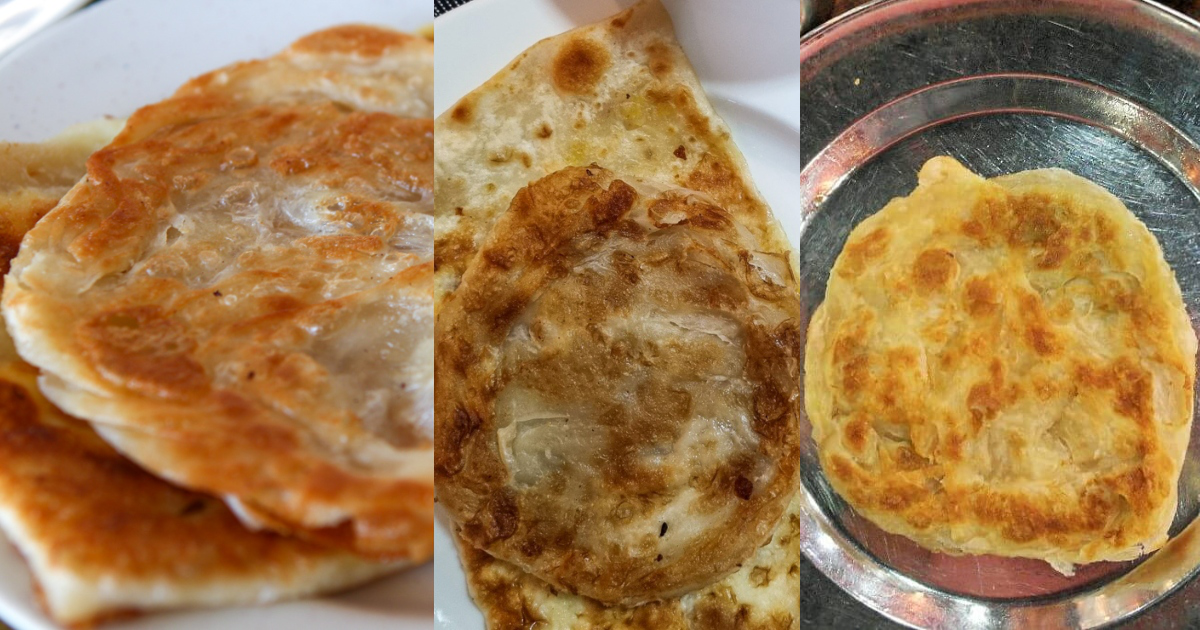Prata: (61, 10, 419, 553), (435, 137, 780, 591), (838, 148, 1181, 580)
